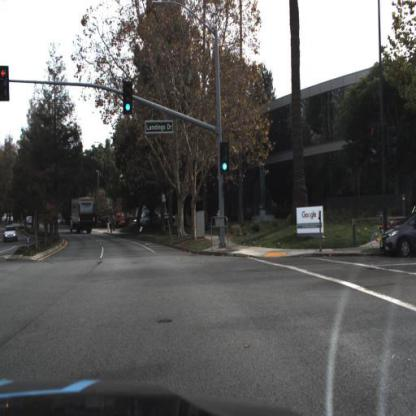car: (380, 209, 416, 261), (3, 226, 19, 243)
trafficLight-Green: (220, 141, 230, 174), (123, 84, 133, 115)
truck: (71, 196, 98, 238)
